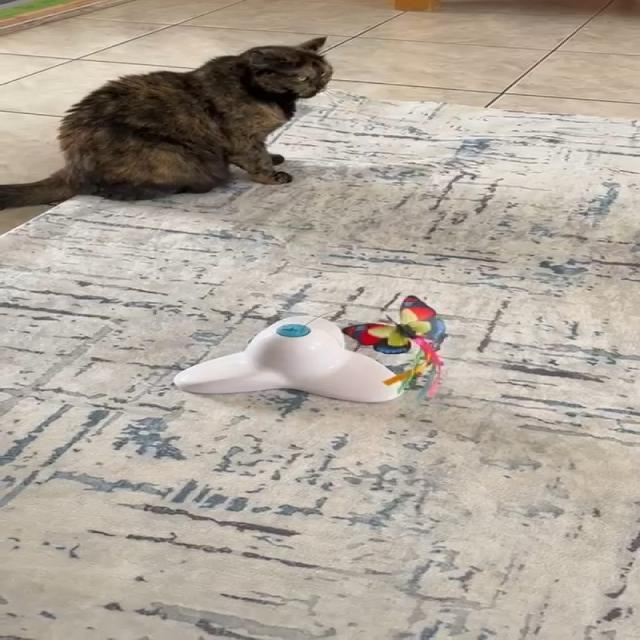authorized: (0, 35, 333, 211)
